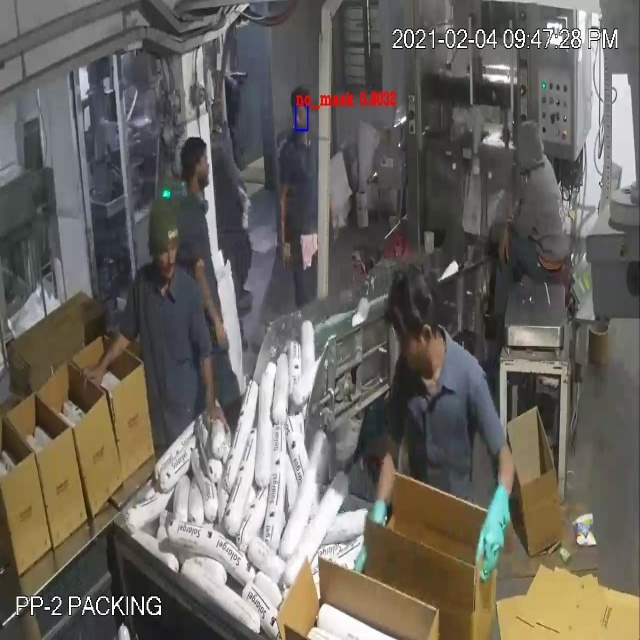Guantes: (471, 476, 519, 593), (344, 488, 399, 586)
Sin_guantes: (193, 260, 236, 351), (78, 332, 139, 394), (189, 347, 230, 436), (271, 183, 299, 269), (492, 207, 522, 279)
